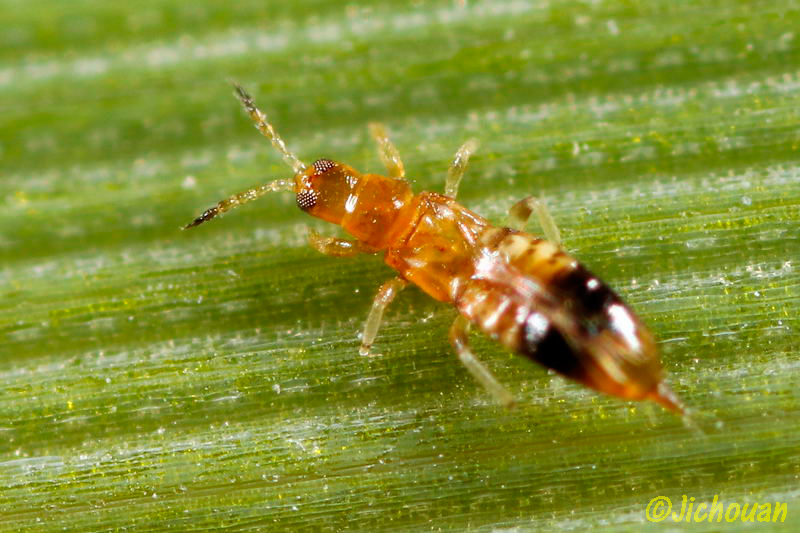Thrips: (153, 72, 725, 442)
